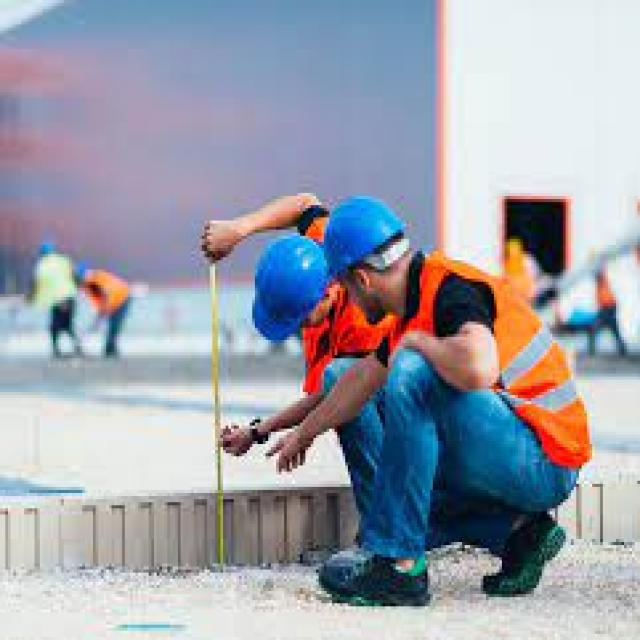Reflective-Jacket: (390, 254, 595, 472), (287, 294, 398, 444), (24, 248, 82, 319), (80, 260, 138, 325)
Safety-Helmet: (234, 224, 340, 346), (314, 187, 414, 288)
